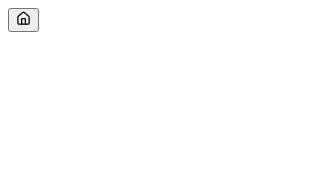
it: DesktopMenuBar › returns Escape focus to the menu trigger
Click the button named "Home and application menu". click: (24,20)
box: x1=8 y1=8 x2=39 y2=32
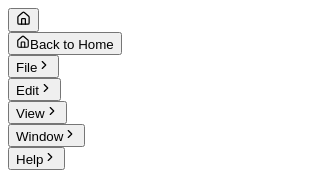
Press Escape
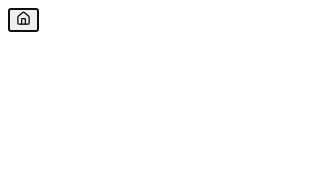
Result: the menu is gone
